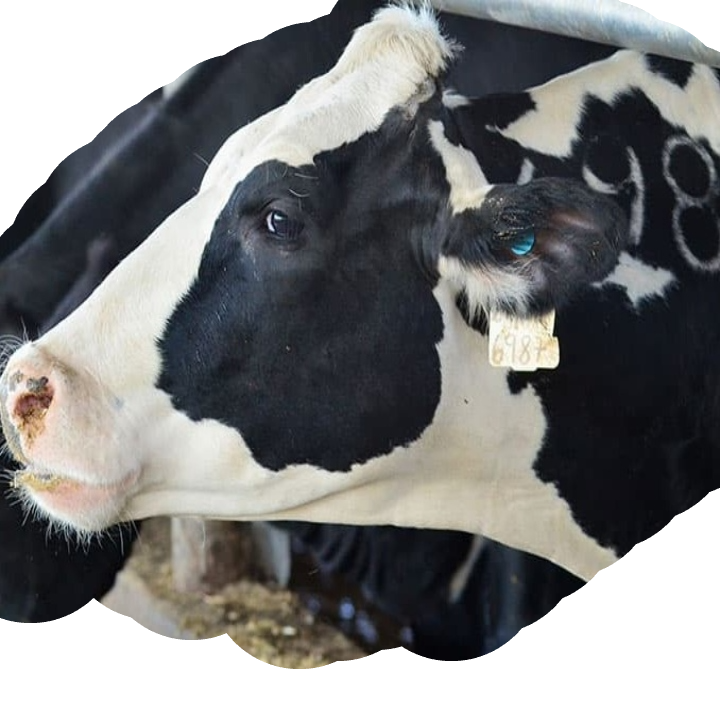Cow: (1, 2, 719, 582)
